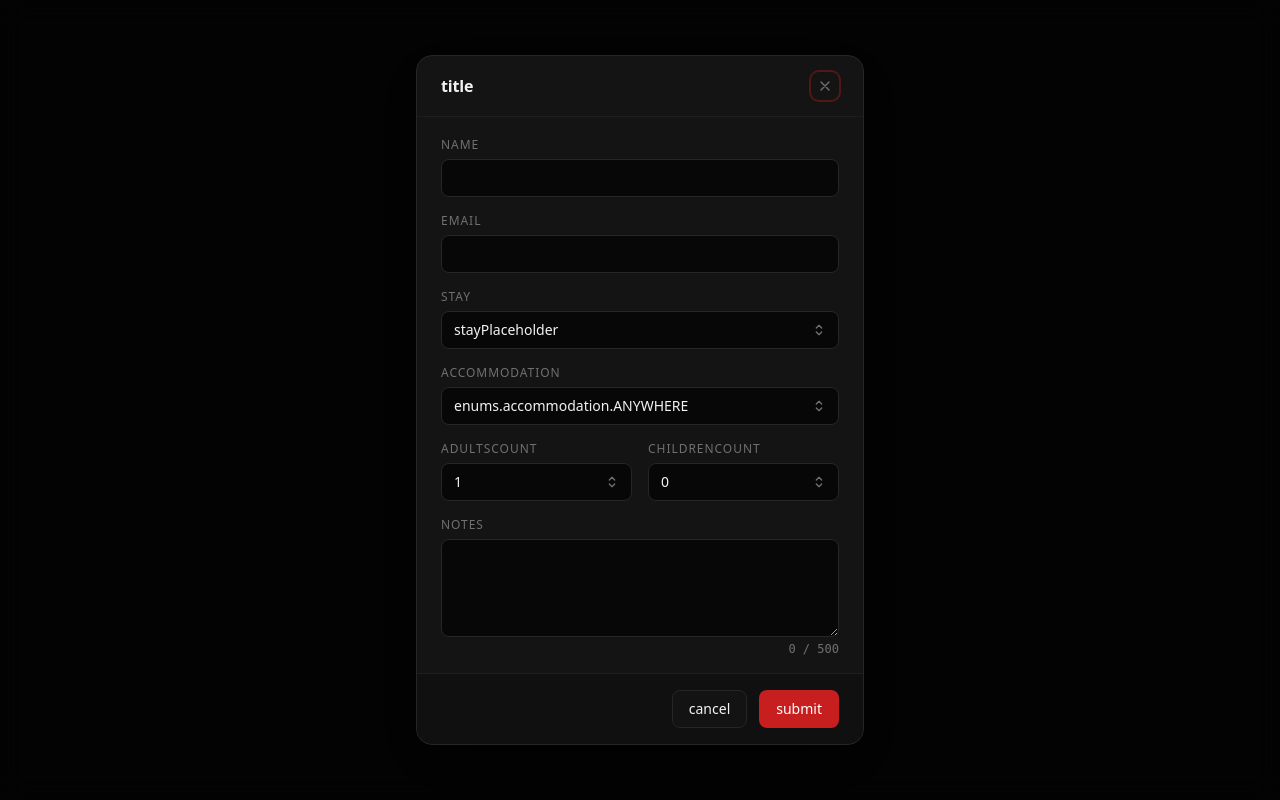
Test: AddRegistrationModal › should show client-side validation errors when submitting empty form
The width and height of the screenshot is (1280, 800).
What coordinates should you click on to do the following:
click the button "submit"
I would click on:
 (799, 709)
Its box is [759,690,839,728].
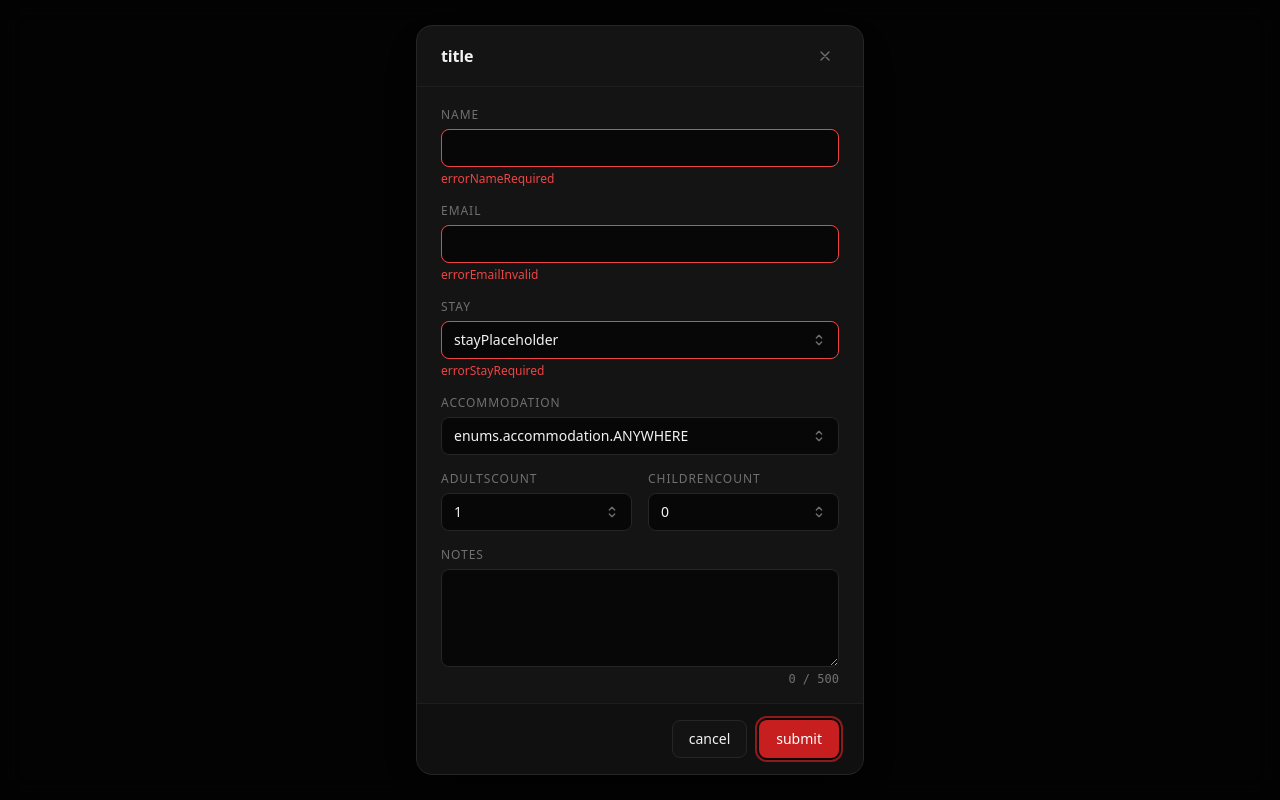
expect the text "errorNameRequired" is shown: met, box [441,171,554,187]
expect the text "errorEmailInvalid" is shown: met, box [441,267,538,283]
expect the text "errorStayRequired" is shown: met, box [441,362,544,379]
